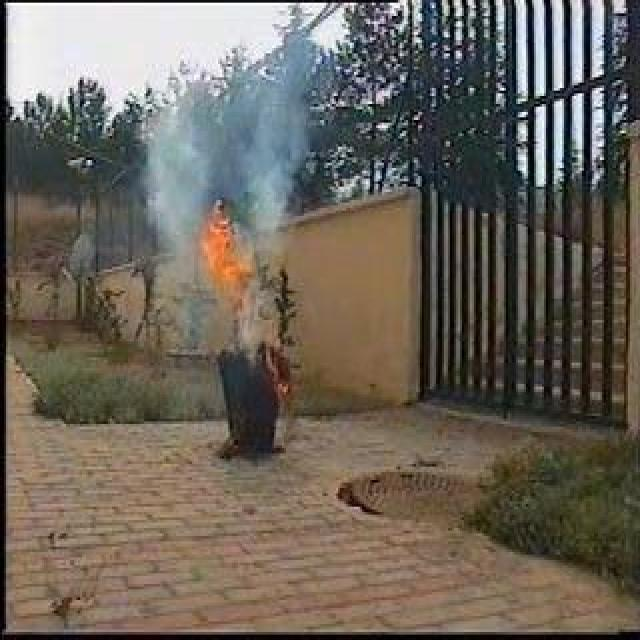Fire: (197, 211, 259, 312)
Smoke: (152, 69, 302, 192)
